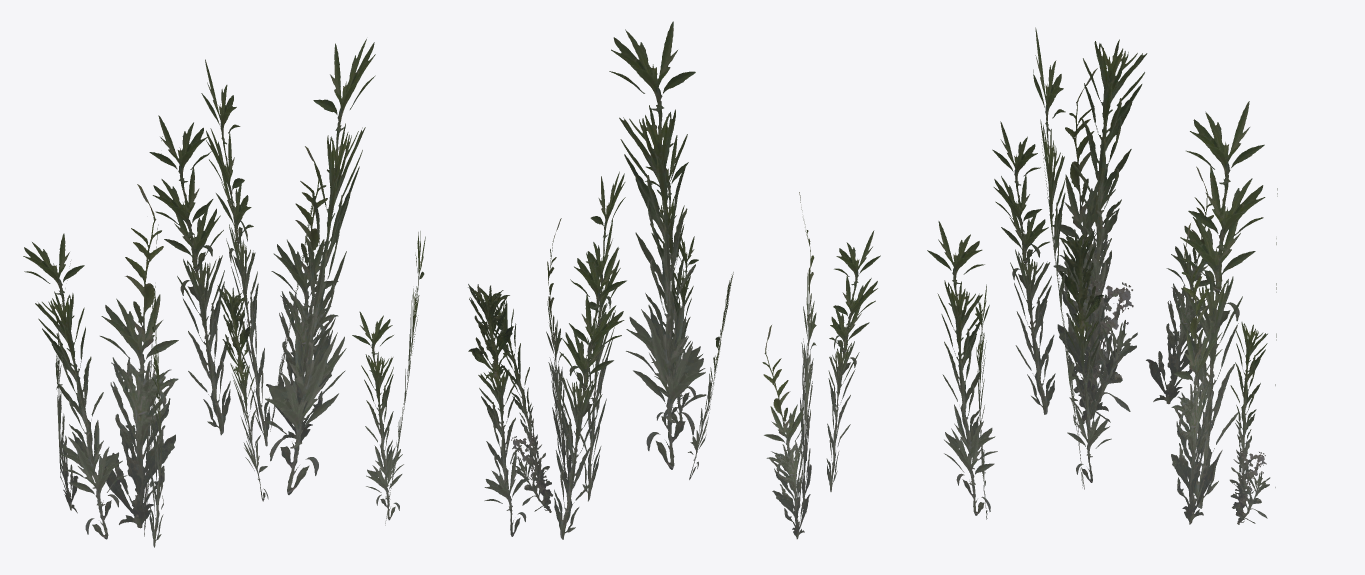
Rendered from prop_weed_001_aa.FBX.
3 renders of one model, left to right at view 1: azimuth 30°, elevation 25°; view 2: azimuth 150°, elevation 25°; view 3: azimuth 270°, elevation 25°, orthographic. The views are drawn at different scales.
Visible parts, largest first — view 1: prop_weed_001_aa; view 2: prop_weed_001_aa; view 3: prop_weed_001_aa.
Part boxes in pixels (x1,y1,x2,y2): prop_weed_001_aa: (23,39,425,547); prop_weed_001_aa: (468,21,880,539); prop_weed_001_aa: (927,27,1277,524).
Size of the model in its own units: 1.32 by 1.31 by 1.69.
1 material, 1 textured.
